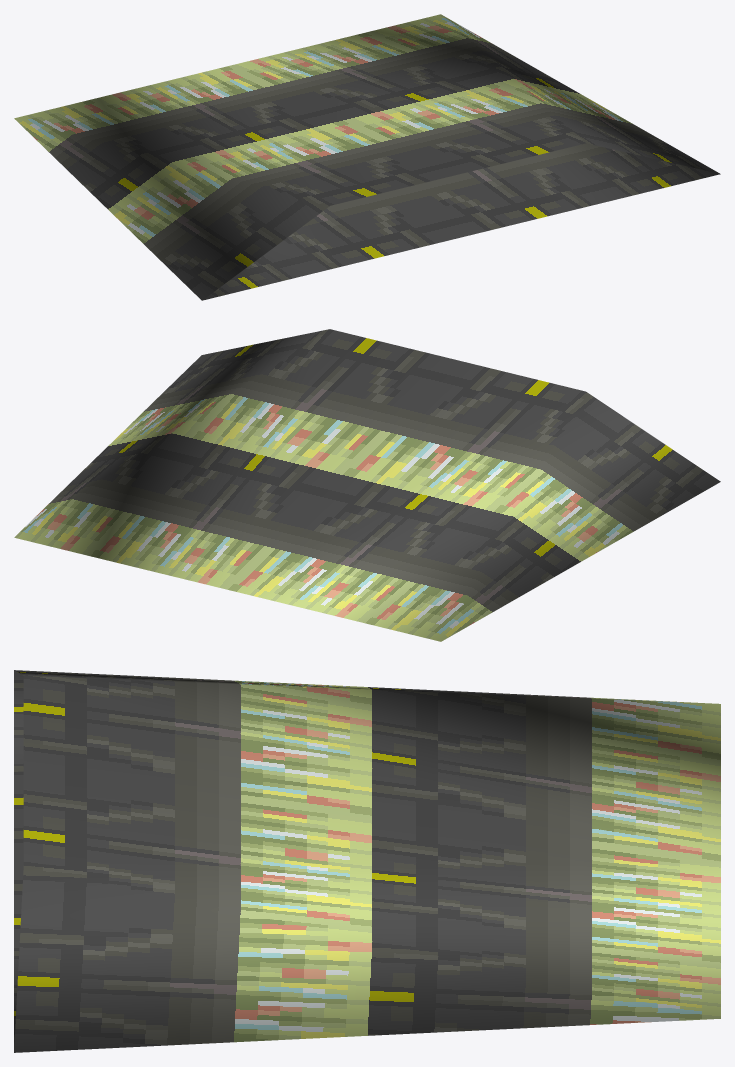
Rendered from 2350skirt00_c.gltf.
3 renders of one model, top to bottom at view 1: azimuth 30°, elevation 25°; view 2: azimuth 150°, elevation 25°; view 3: azimuth 270°, elevation 25°, orthographic. The views are drawn at different scales.
Visible parts, largest first — view 1: 2350skirt00_c; view 2: 2350skirt00_c; view 3: 2350skirt00_c.
Boxes of the visible parts, <box> form: 2350skirt00_c: <box>14,14,720,300</box>; 2350skirt00_c: <box>14,329,720,641</box>; 2350skirt00_c: <box>14,670,720,1052</box>.
Bounding box in the file's own units: 0.7896 × 0.0879 × 0.6162.
1 material, 1 textured.
